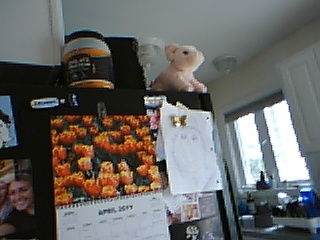piggy: (148, 43, 208, 94)
